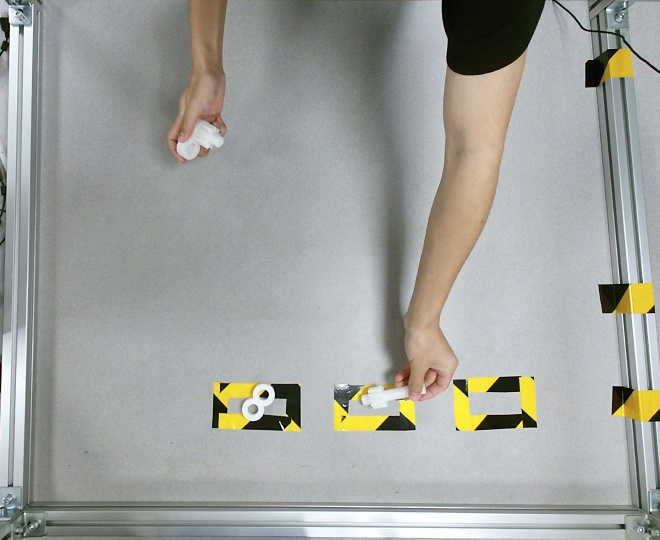stage_2: (177, 118, 225, 160)
